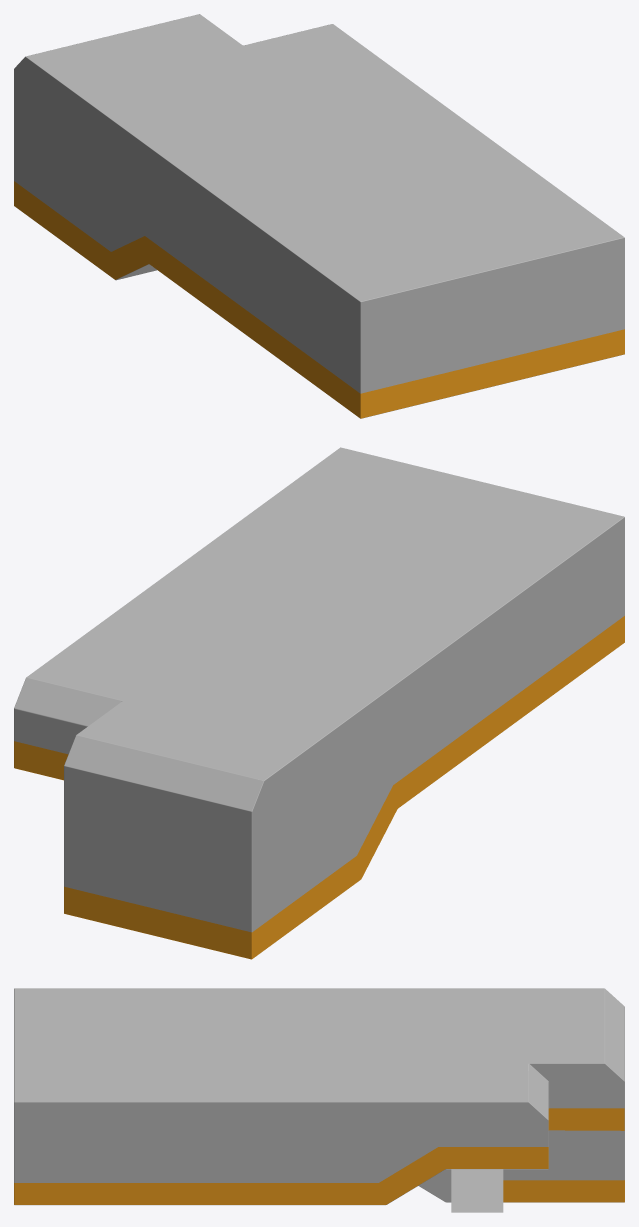
The model's file is Room_Workshop.fbx.
The picture shows the model from 3 angles, top to bottom: view 1: azimuth 30°, elevation 25°; view 2: azimuth 150°, elevation 25°; view 3: azimuth 270°, elevation 25°; orthographic projection. The views are drawn at different scales.
Visible parts, largest first — view 1: Workshop; view 2: Workshop; view 3: Workshop.
Boxes of the visible parts, x1,y1,x2,y2 form: Workshop: (14,14,624,418); Workshop: (14,447,624,959); Workshop: (14,988,624,1212).
Size of the model in its own units: 1086 by 620 by 2464.
